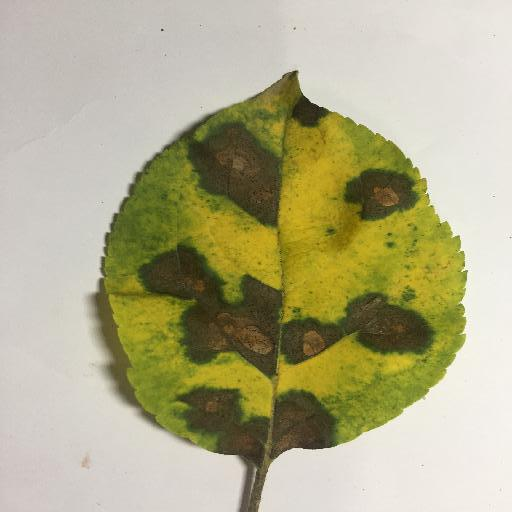Brown_Spot: (140, 248, 280, 369), (279, 293, 430, 364), (197, 124, 287, 225), (193, 390, 273, 460), (336, 160, 418, 212), (274, 383, 333, 454)
